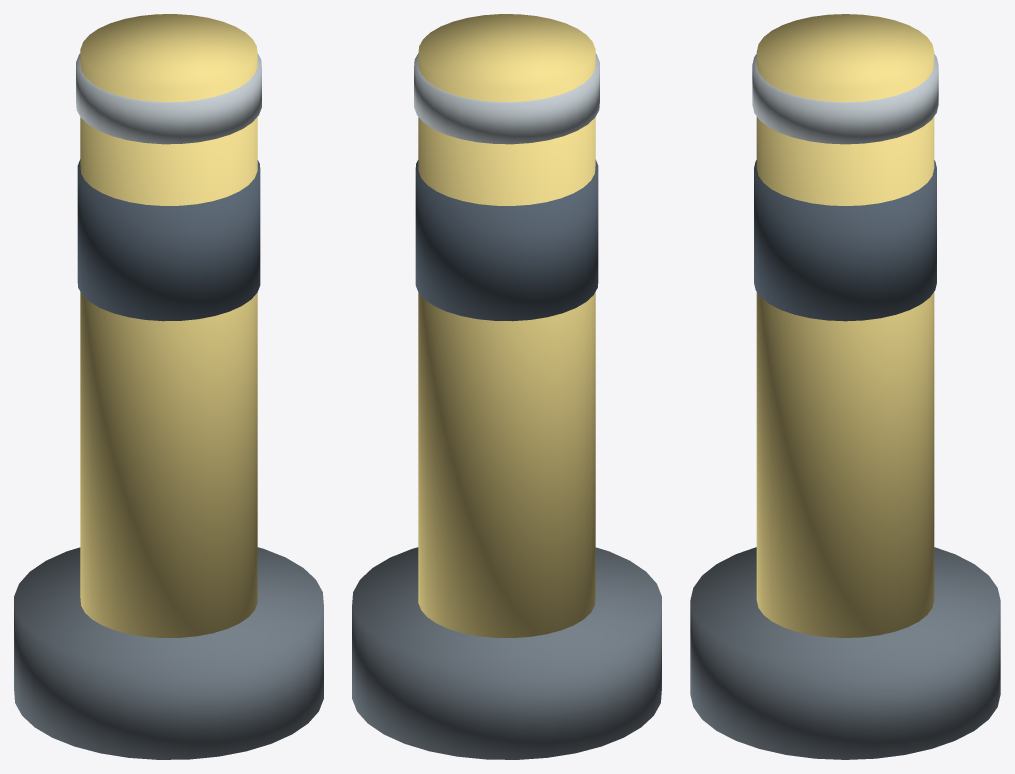
Rendered from bollard_ultra.glb.
3 renders of one model, left to right at view 1: azimuth 30°, elevation 25°; view 2: azimuth 150°, elevation 25°; view 3: azimuth 270°, elevation 25°, orthographic.
Parts seen in each view (by area): view 1: Body_yellow, Base_dark, Stripe_black, Cap_steel; view 2: Body_yellow, Base_dark, Stripe_black, Cap_steel; view 3: Body_yellow, Base_dark, Stripe_black, Cap_steel.
Boxes of the visible parts, box(x1,y1,x2,y2) form: Body_yellow: box(80, 14, 257, 637); Base_dark: box(14, 547, 323, 759); Stripe_black: box(77, 159, 260, 321); Cap_steel: box(76, 53, 261, 144); Body_yellow: box(418, 14, 595, 637); Base_dark: box(352, 547, 661, 759); Stripe_black: box(415, 159, 598, 321); Cap_steel: box(414, 53, 599, 144); Body_yellow: box(756, 14, 934, 637); Base_dark: box(690, 547, 1000, 759); Stripe_black: box(754, 160, 936, 321); Cap_steel: box(752, 54, 938, 144).
Size of the model in its own units: 0.42 by 0.96 by 0.42.
